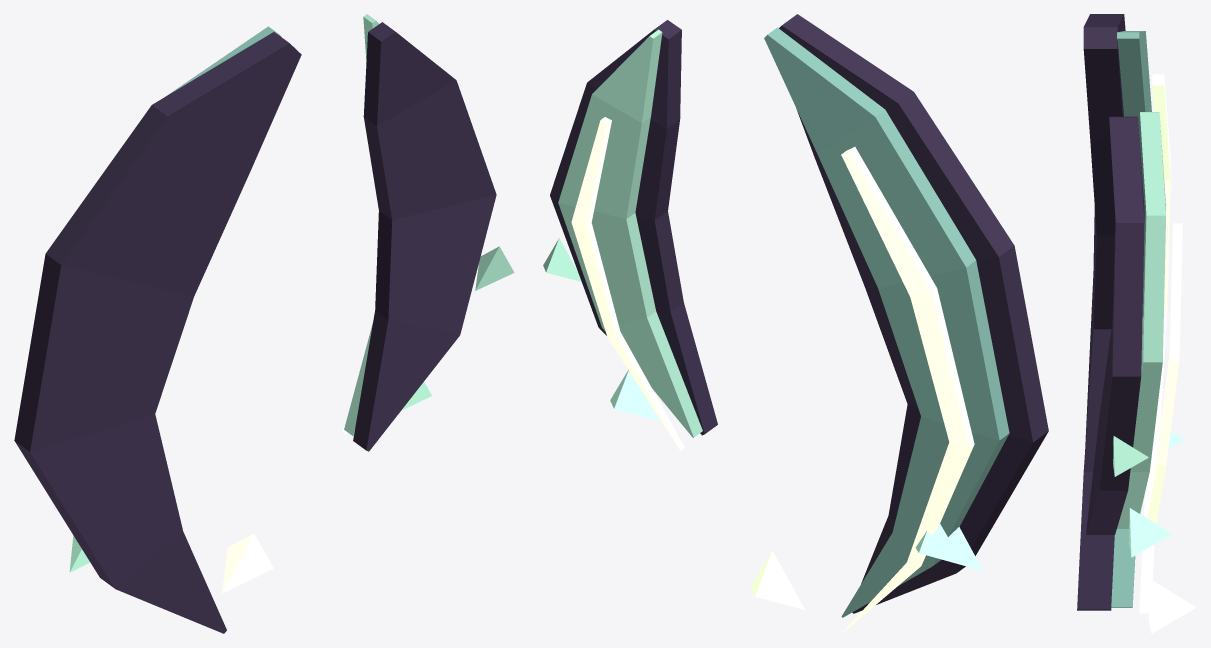
The model's file is undead_small_spirit_claws_v3_axis_failed_20260913.glb.
3 views of the same model, side by side, from view 1: azimuth 30°, elevation 25°; view 2: azimuth 150°, elevation 25°; view 3: azimuth 270°, elevation 25° (orthographic). The views are drawn at different scales.
Visible parts, largest first — view 1: ClawA_Dark, ClawB_Dark, ShardB, ShardD, ClawB_Body; view 2: ClawA_Body, ClawA_Dark, ClawB_Body, ClawB_Dark, ClawA_Core, ClawB_Core, ShardA, ShardB, ShardC, ShardD; view 3: ClawA_Dark, ClawB_Dark, ClawB_Body, ClawA_Body, ClawA_Core, ClawB_Core, ShardB, ShardC, ShardD.
Part boxes in pixels (x1,y1,x2,y2): ClawA_Dark: (14,32,301,633); ClawB_Dark: (353,22,496,451); ShardB: (222,534,273,593); ShardD: (475,246,514,290); ClawB_Body: (344,14,378,436); ClawA_Body: (764,27,1009,617); ClawA_Dark: (779,14,1048,613); ClawB_Body: (558,29,702,437); ClawB_Dark: (550,20,717,435); ClawA_Core: (841,147,974,633); ClawB_Core: (571,117,684,450); ShardA: (913,524,982,570); ShardB: (750,551,804,609); ShardC: (610,370,658,420); ShardD: (543,238,581,281); ClawA_Dark: (1077,14,1125,610); ClawB_Dark: (1086,116,1144,534); ClawB_Body: (1117,112,1165,528); ClawA_Body: (1111,31,1151,607); ClawA_Core: (1139,74,1170,613); ClawB_Core: (1147,223,1182,523); ShardB: (1148,578,1196,633); ShardC: (1129,508,1171,557); ShardD: (1113,436,1148,476).
Bounding box in the file's own units: 0.9461 × 1.06 × 0.183.
